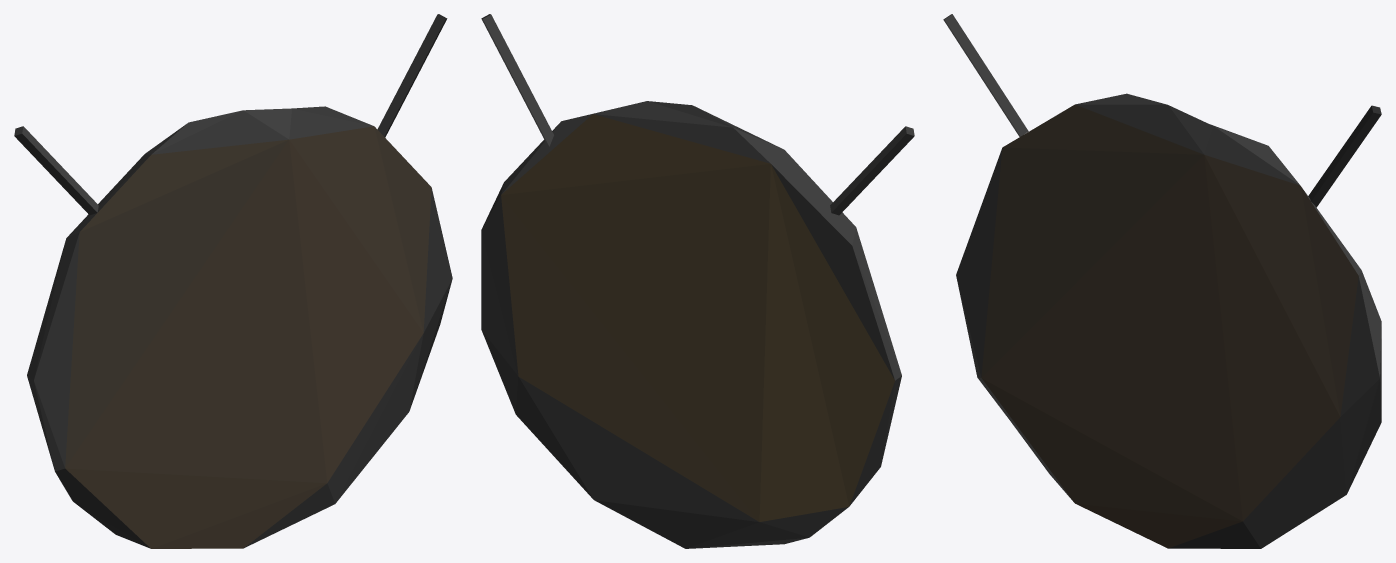
Rendered from Sign-HangingE.fbx.
The picture shows the model from 3 angles, left to right: view 1: azimuth 30°, elevation 25°; view 2: azimuth 150°, elevation 25°; view 3: azimuth 330°, elevation 25°; orthographic projection.
Visible parts, largest first — view 1: Sign-HangingE; view 2: Sign-HangingE; view 3: Sign-HangingE.
Boxes of the visible parts, bbox=[...] form: Sign-HangingE: bbox=[14, 14, 452, 548]; Sign-HangingE: bbox=[481, 14, 914, 548]; Sign-HangingE: bbox=[943, 14, 1381, 548].
Bounding box in the file's own units: 110 × 117 × 7.49.
